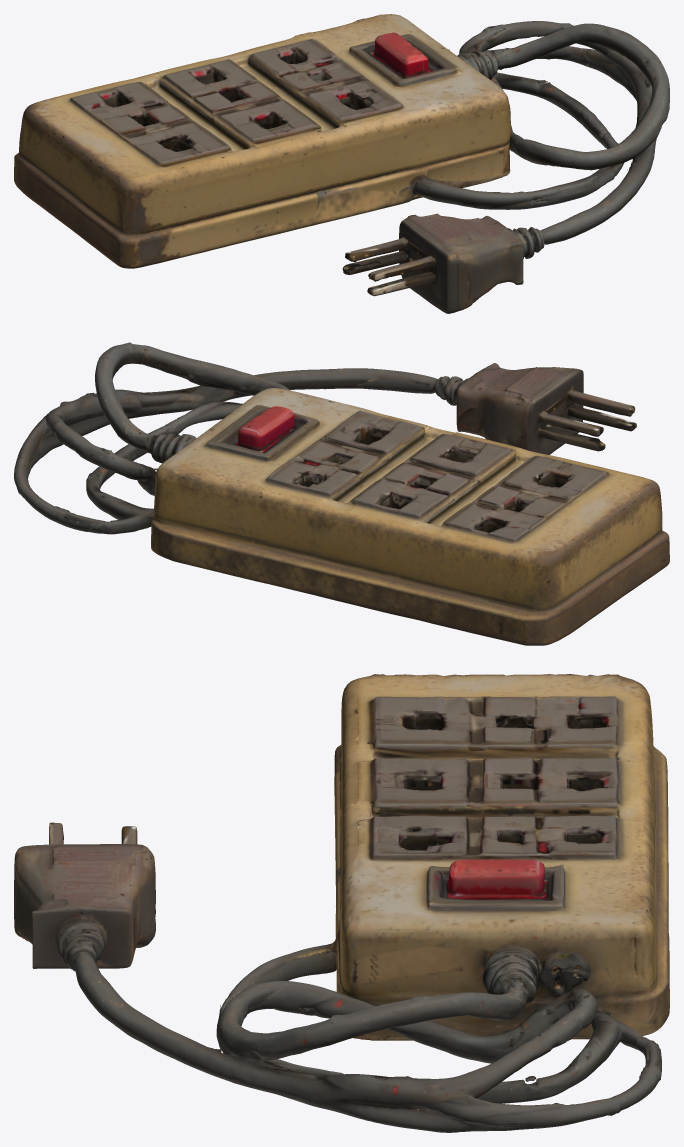
Rendered from Power_Time_Capsule_0710035511_texture.fbx.
3 views of the same model, one above another, from view 1: azimuth 30°, elevation 25°; view 2: azimuth 150°, elevation 25°; view 3: azimuth 270°, elevation 25° (orthographic). The views are drawn at different scales.
Parts seen in each view (by area): view 1: Mesh1; view 2: Mesh1; view 3: Mesh1.
Boxes of the visible parts, bbox=[...] form: Mesh1: bbox=[14, 14, 669, 313]; Mesh1: bbox=[14, 342, 669, 645]; Mesh1: bbox=[14, 674, 669, 1132].
Bounding box in the file's own units: 200 × 37.47 × 148.
Materials: 1 (1 with a texture image).
